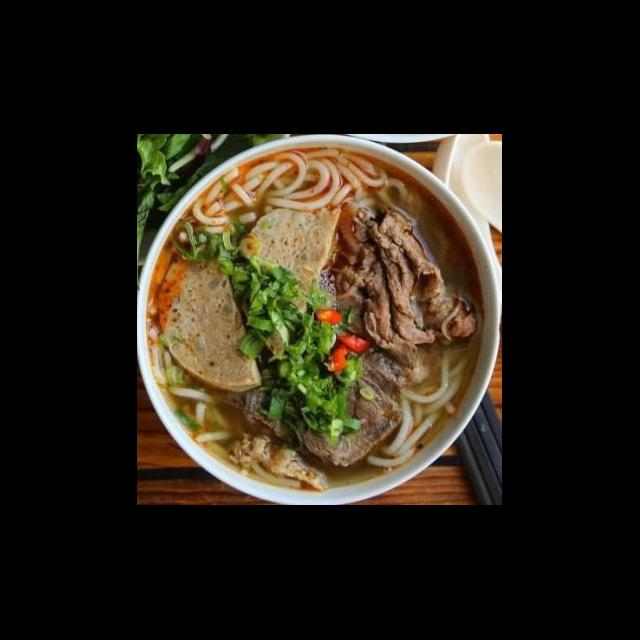bun: (175, 144, 412, 248), (364, 342, 476, 472), (164, 382, 242, 462), (142, 322, 176, 388)
bun bo: (154, 152, 493, 480)
thit bo: (288, 318, 446, 470), (348, 206, 482, 344), (332, 240, 424, 372), (378, 204, 449, 308)
